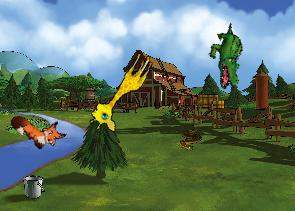crocodile: (200, 22, 255, 91)
fox: (7, 98, 69, 158)
giraffe: (85, 44, 156, 137)
